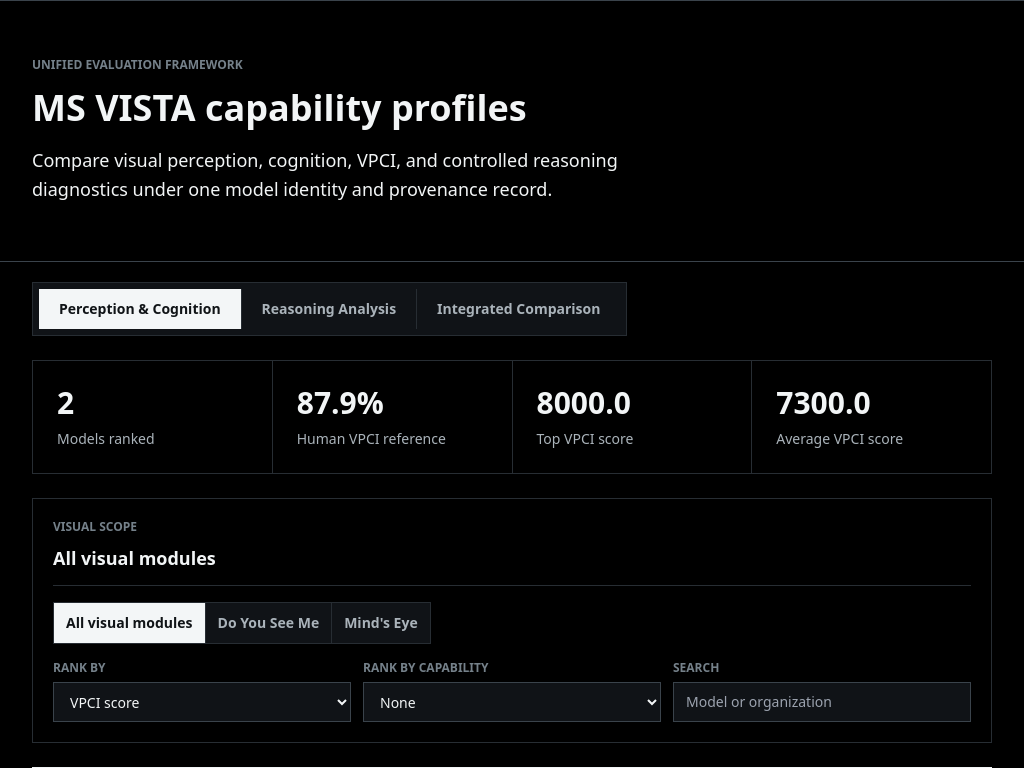
Test case: leaderboard filter contracts › clears stale cohort results if the next cohort cannot load
Click the tab "Reasoning Analysis": {"x": 329, "y": 308} [242,288,417,328]
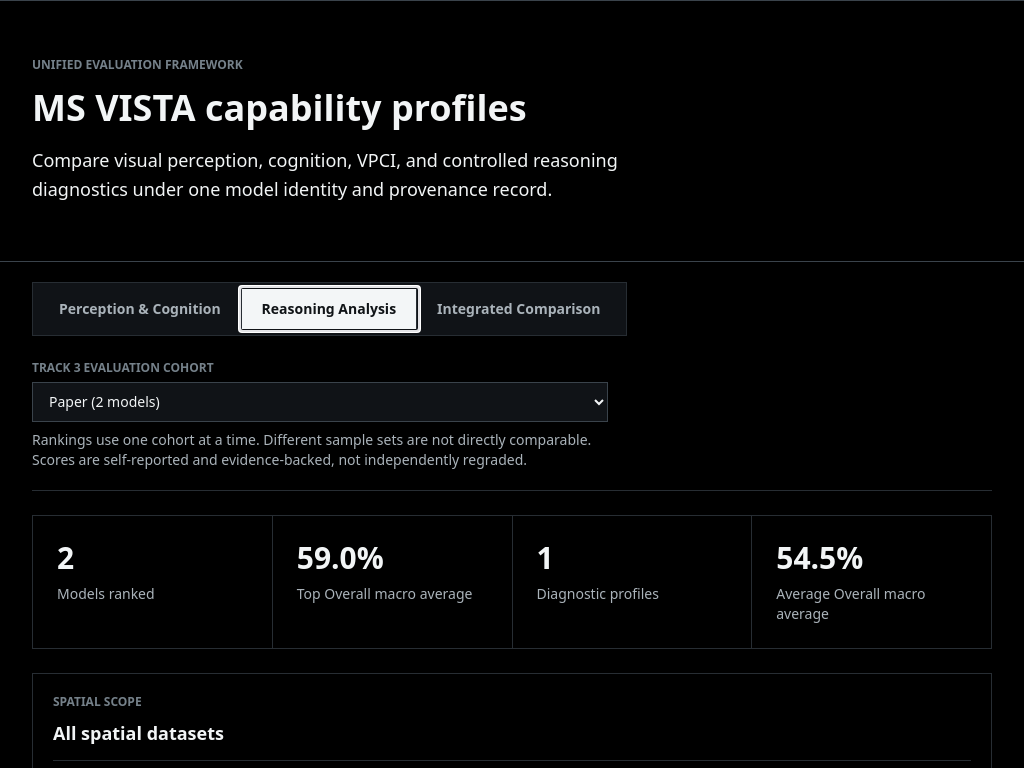
Select "Missing (1 model)" in the dropdown labelled "Track 3 evaluation cohort": {"x": 320, "y": 402} [32,382,608,422]
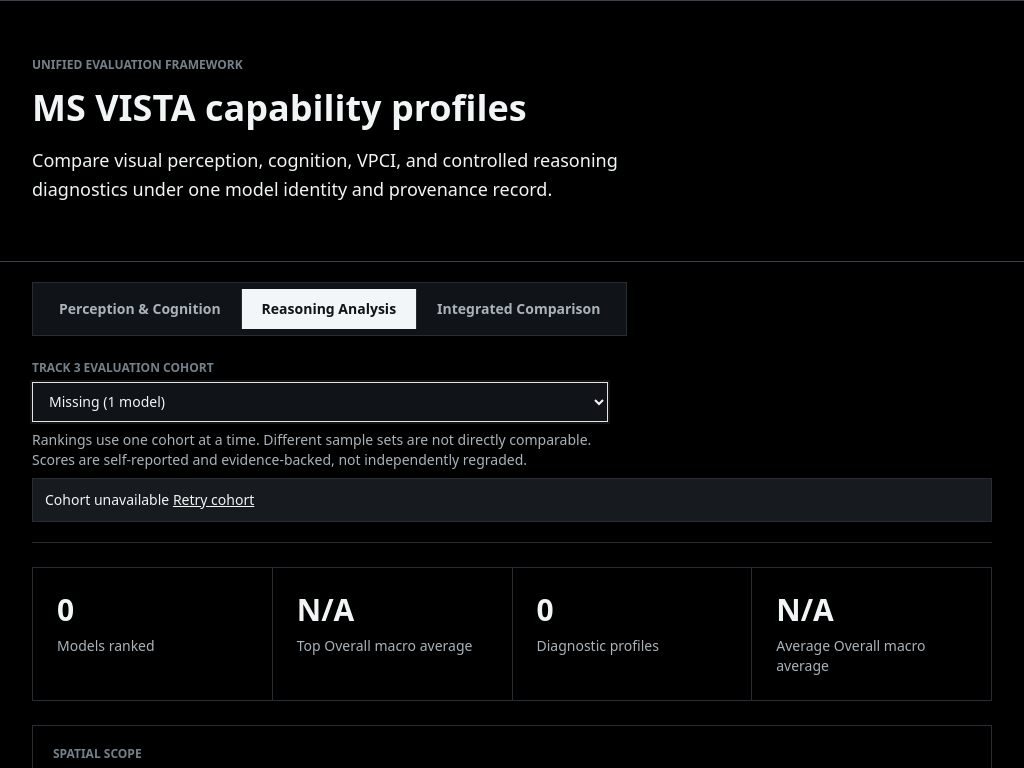
Expected: the message shows "Cohort unavailable", [45,490,169,508]
